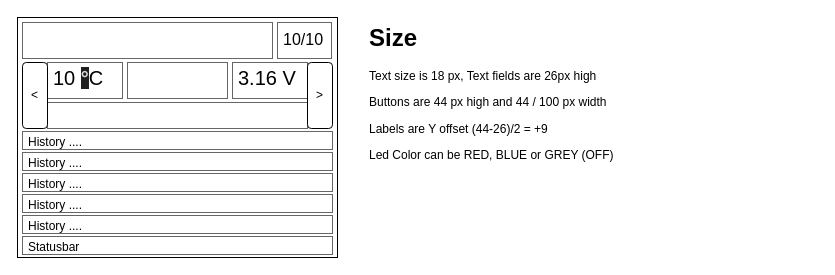
Some shapes in this 835 by 275 pixel diagram are drawn without their labels. The centre of each missing label's shape, as x and y in pixels:
1.010 SG: the point at 177,80
Device: the point at 147,40
Timestamp: the point at 177,115
